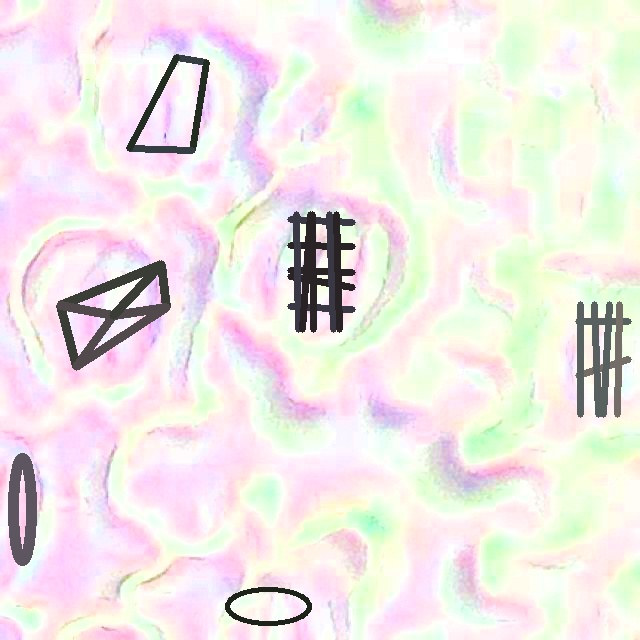open: (56, 261, 170, 369), (287, 211, 355, 332), (126, 54, 209, 153), (575, 302, 631, 417), (224, 586, 311, 627), (7, 452, 36, 566)
